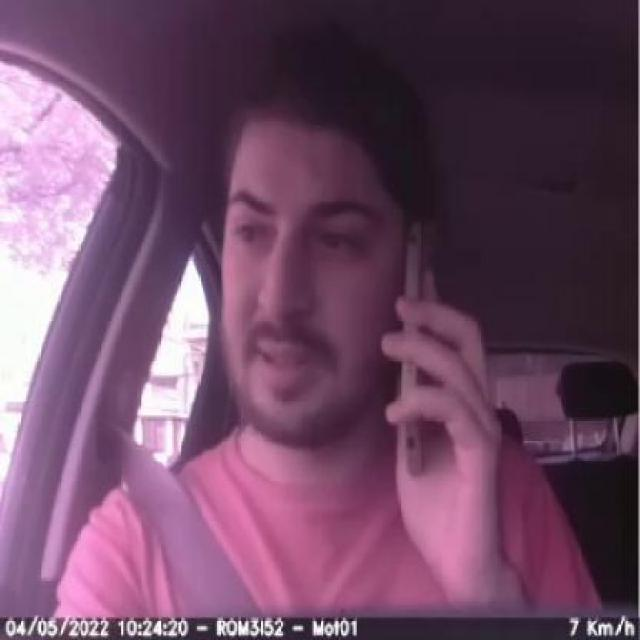using_phone: (317, 187, 544, 531)
